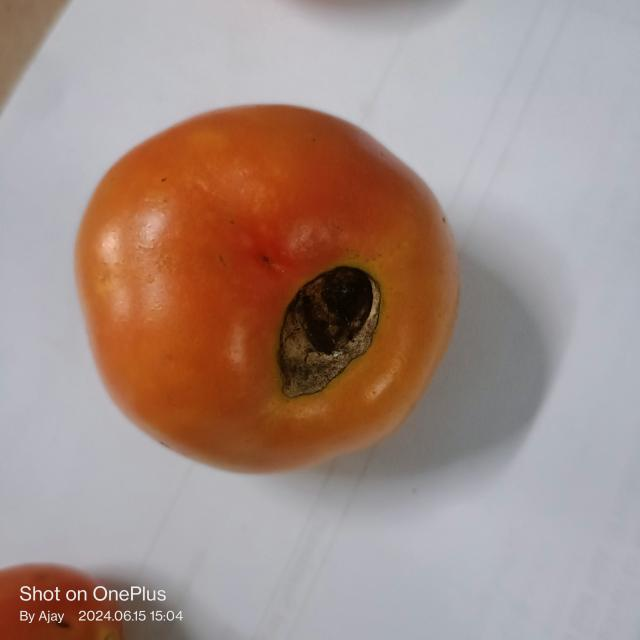fruitworm_bore: (248, 264, 382, 402)
